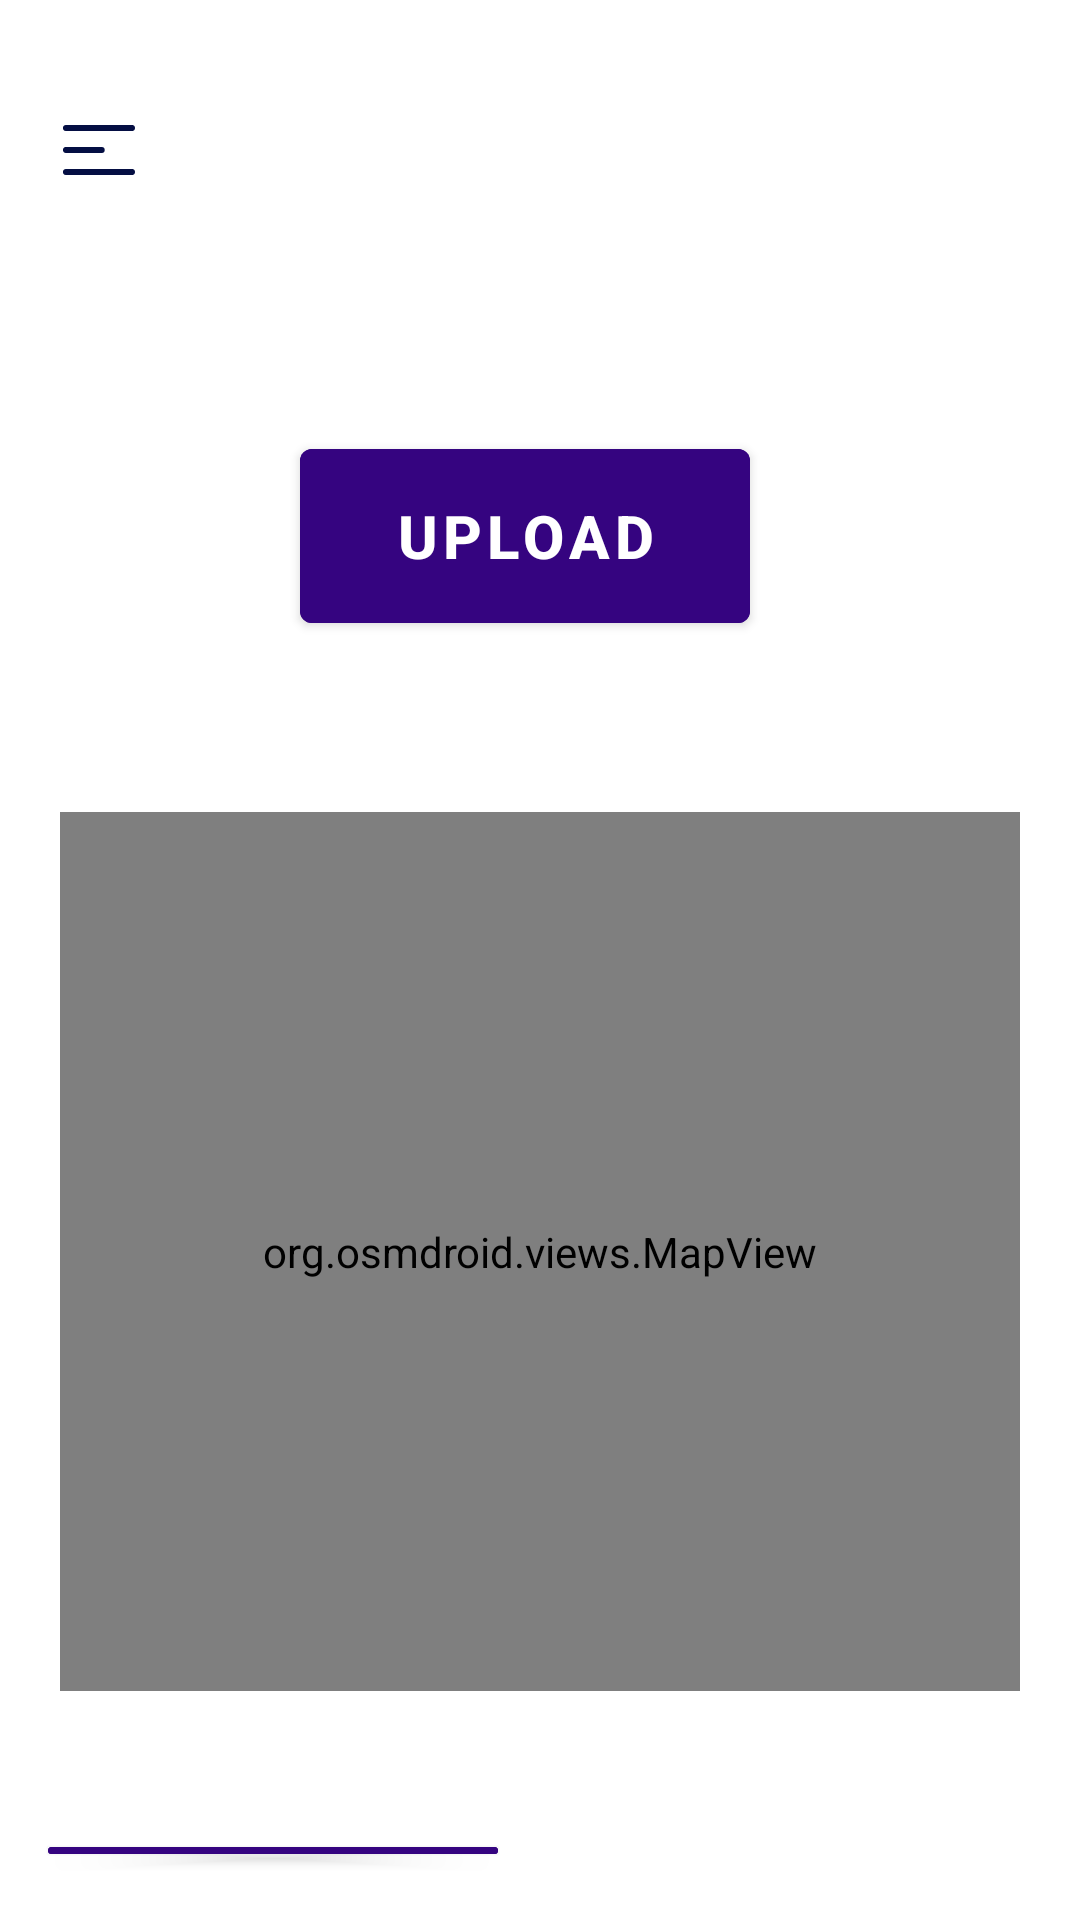

Screen size 1080w x 1920h. Icon name, then its center in pixels as (x,y):
hamburger: (99,150)
